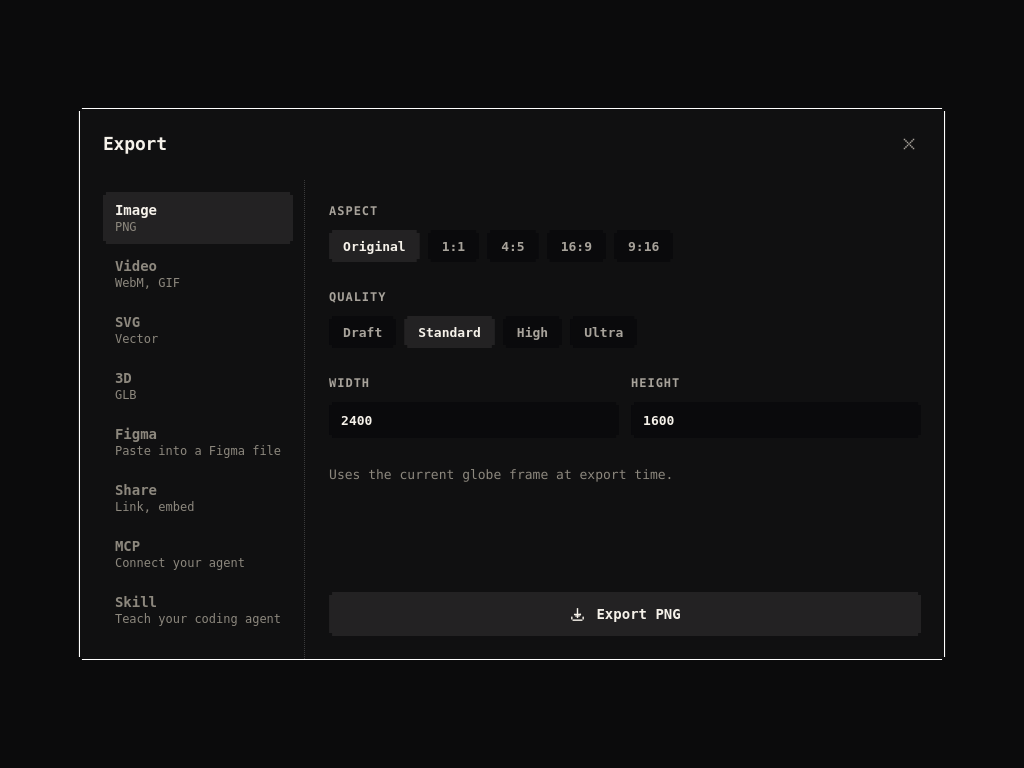
Scenario: ExportModal › the side list › shows the picked type's panel beside it, labelled by its name
The width and height of the screenshot is (1024, 768).
Click the tab "SVG Vector" at x=198, y=330, box [103,304,293,356]
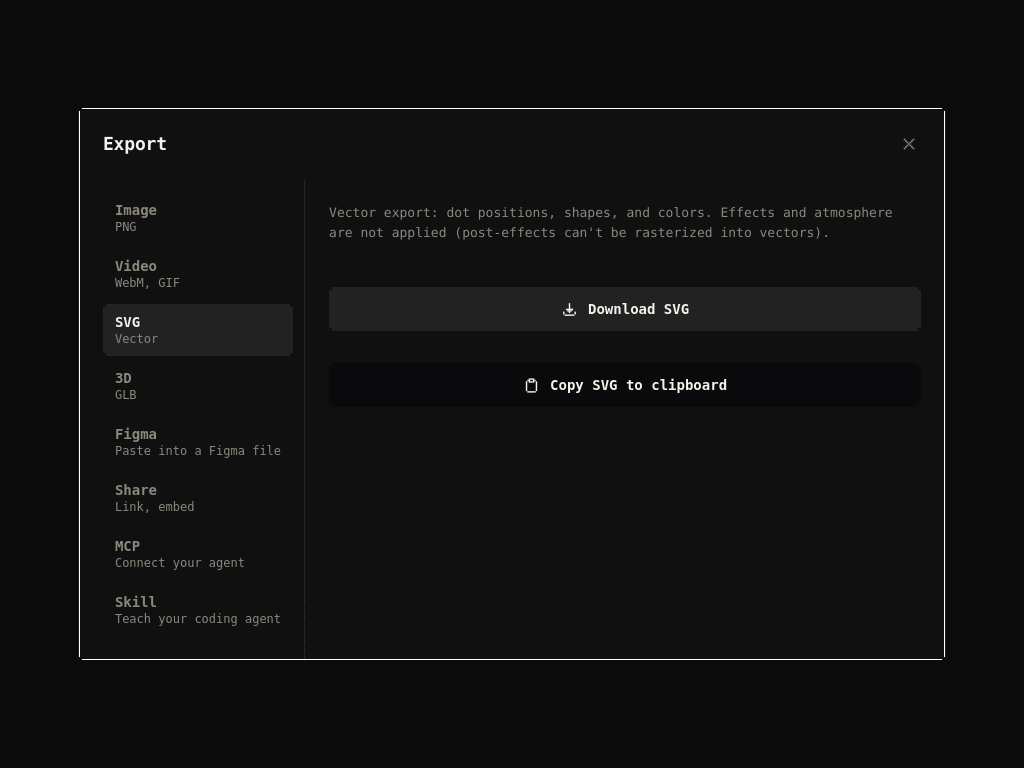
Expected: the button "Download SVG" is shown, [329,287,921,331]
